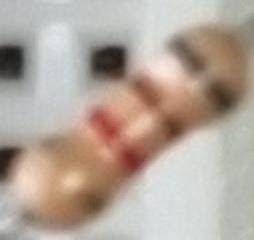Brown: (127, 73, 186, 143)
Green: (168, 34, 234, 115)
Red: (87, 108, 144, 174)
Side-Gold: (32, 132, 105, 224)
